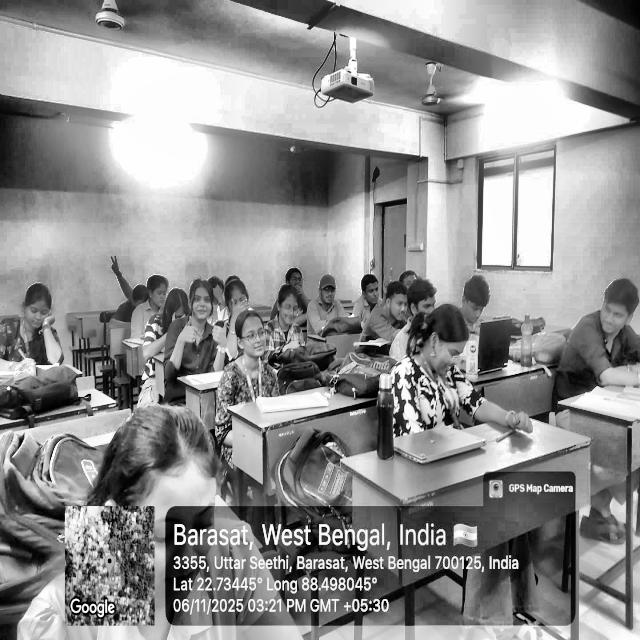Focus: (119, 422, 243, 589), (288, 270, 449, 346), (231, 301, 312, 373)
Not Focus: (25, 273, 92, 368), (431, 289, 476, 382), (180, 287, 256, 332), (604, 280, 640, 363)
